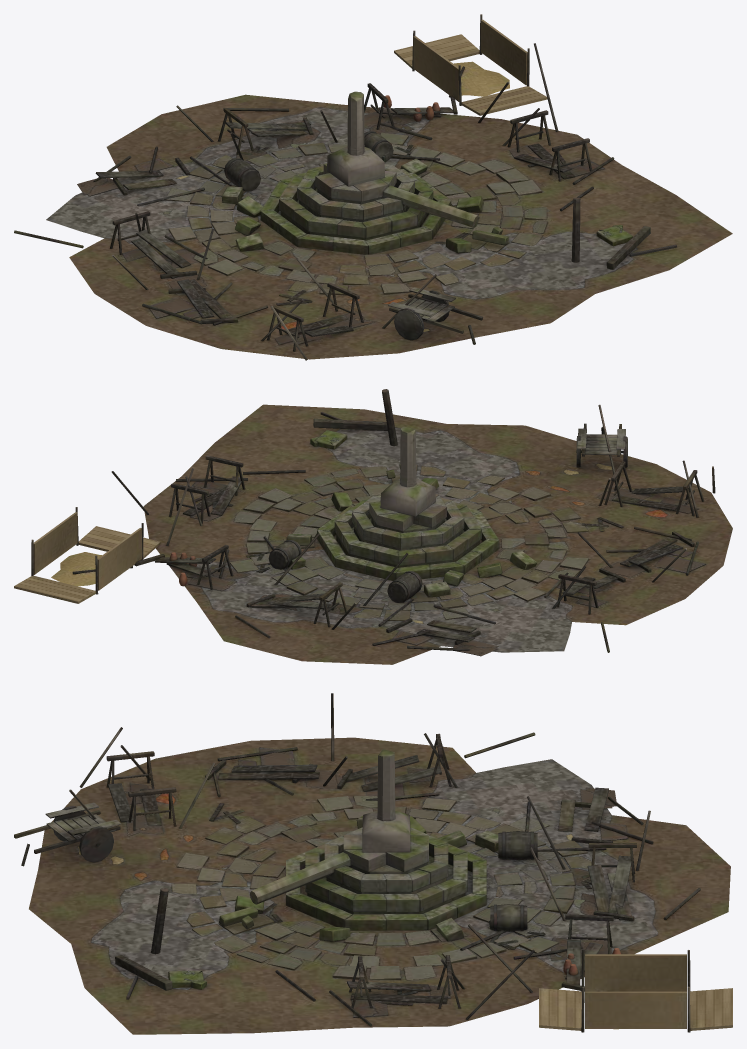
Rendered from market_ruin.glb.
3 views of the same model, one above another, from view 1: azimuth 30°, elevation 25°; view 2: azimuth 150°, elevation 25°; view 3: azimuth 270°, elevation 25° (orthographic). The views are drawn at different scales.
Visible parts, largest first — view 1: market_ruin_LOD0; view 2: market_ruin_LOD0; view 3: market_ruin_LOD0.
Part boxes in pixels (x1,y1,x2,y2): market_ruin_LOD0: (14,14,732,360); market_ruin_LOD0: (14,389,732,664); market_ruin_LOD0: (14,693,732,1034).
Size of what is drawn, in the model's own units: 15.24 by 3.27 by 15.56.
Materials: 1 (1 with a texture image).
